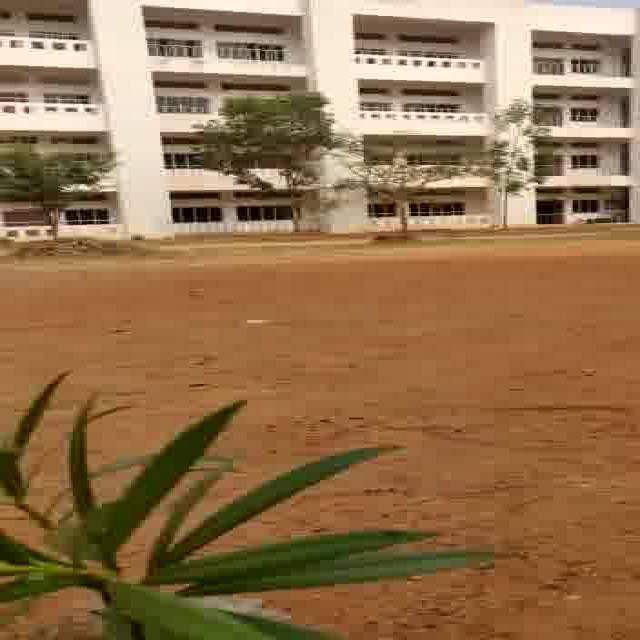Oleander: (0, 374, 487, 640)
